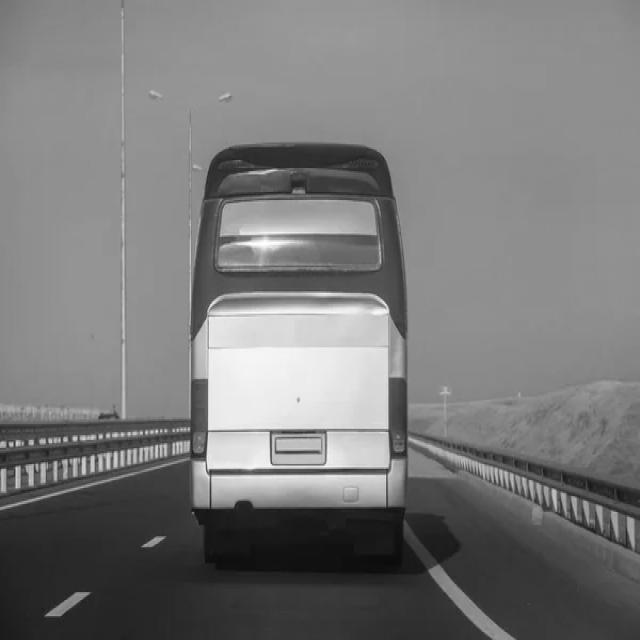Bus: (190, 142, 408, 562)
